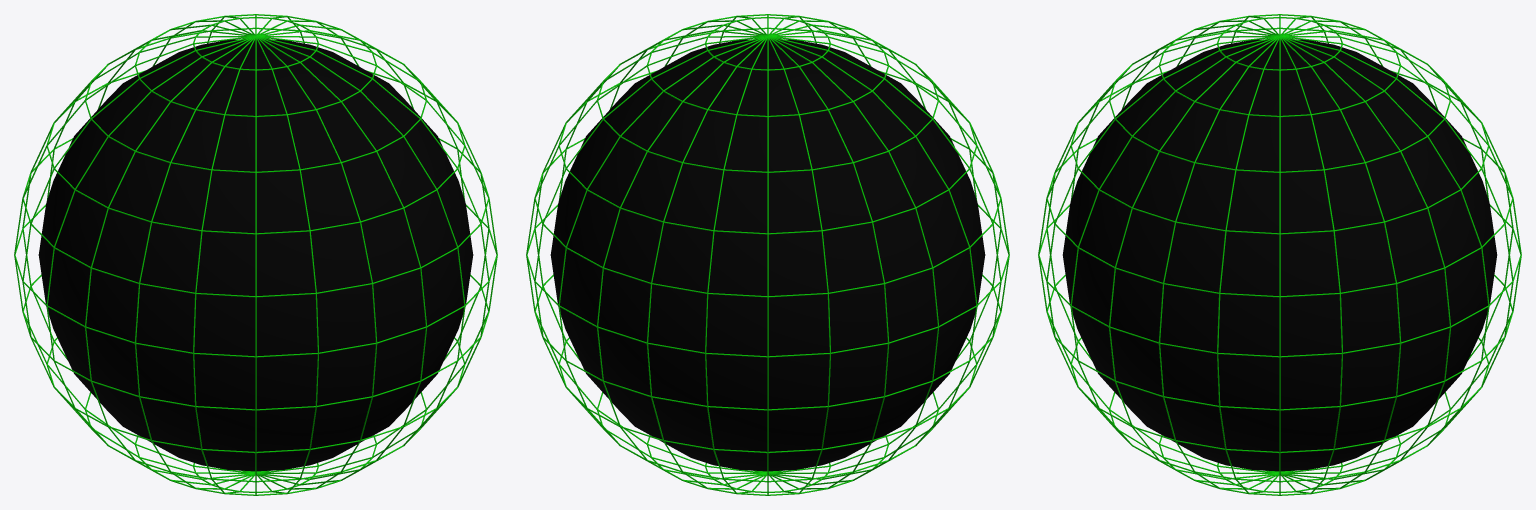
File: Health_CyberCop20XX.fbx
The picture shows the model from 3 angles, left to right: view 1: azimuth 30°, elevation 25°; view 2: azimuth 150°, elevation 25°; view 3: azimuth 270°, elevation 25°; orthographic projection.
Visible parts, largest first — view 1: Sphere_1, Sphere_1_2; view 2: Sphere_1, Sphere_1_2; view 3: Sphere_1, Sphere_1_2.
Part boxes in pixels (<box>): Sphere_1: <box>38,39,473,471</box>; Sphere_1_2: <box>14,14,497,495</box>; Sphere_1: <box>550,39,985,471</box>; Sphere_1_2: <box>526,14,1009,495</box>; Sphere_1: <box>1062,39,1497,471</box>; Sphere_1_2: <box>1038,14,1521,495</box>.
Bounding box in the file's own units: 67.31 × 67.31 × 67.31.
